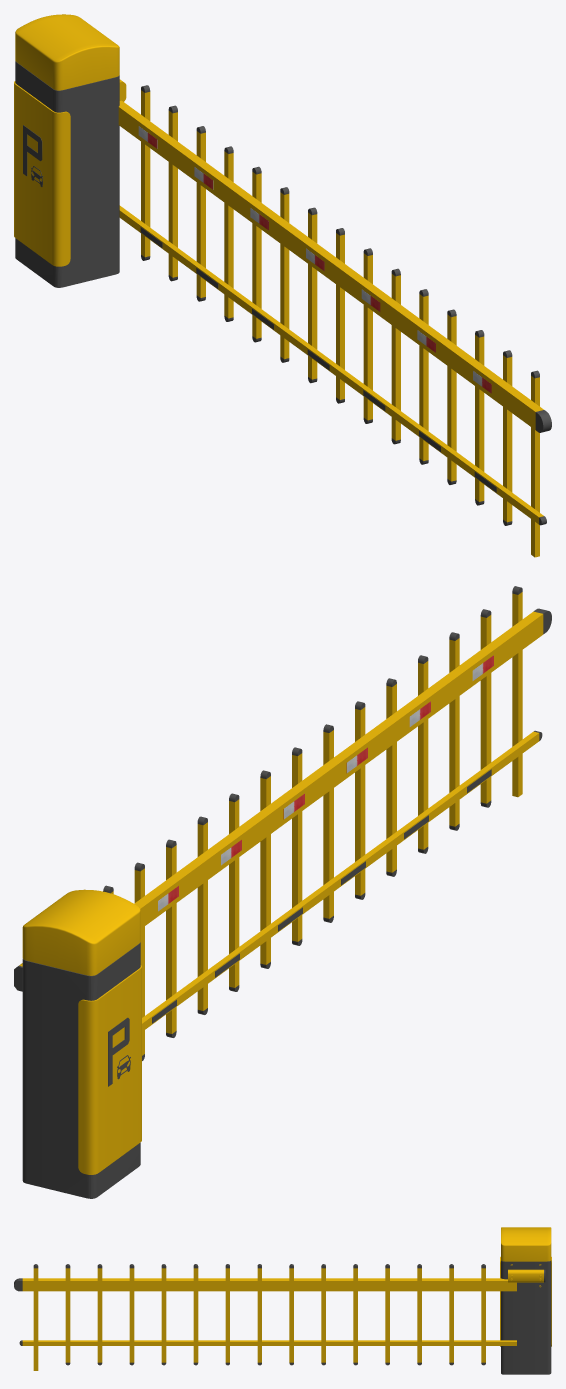
The model's file is Parking_Hole.fbx.
3 renders of one model, top to bottom at view 1: azimuth 30°, elevation 25°; view 2: azimuth 150°, elevation 25°; view 3: azimuth 270°, elevation 25°, orthographic. The views are drawn at different scales.
Visible parts, largest first — view 1: Parking_Hole; view 2: Parking_Hole; view 3: Parking_Hole.
Boxes of the visible parts, <box> form: Parking_Hole: <box>14,14,551,557</box>; Parking_Hole: <box>14,586,551,1198</box>; Parking_Hole: <box>14,1227,551,1374</box>.
Bounding box in the file's own units: 0.35 × 1 × 3.65.
3 materials, 1 textured.
